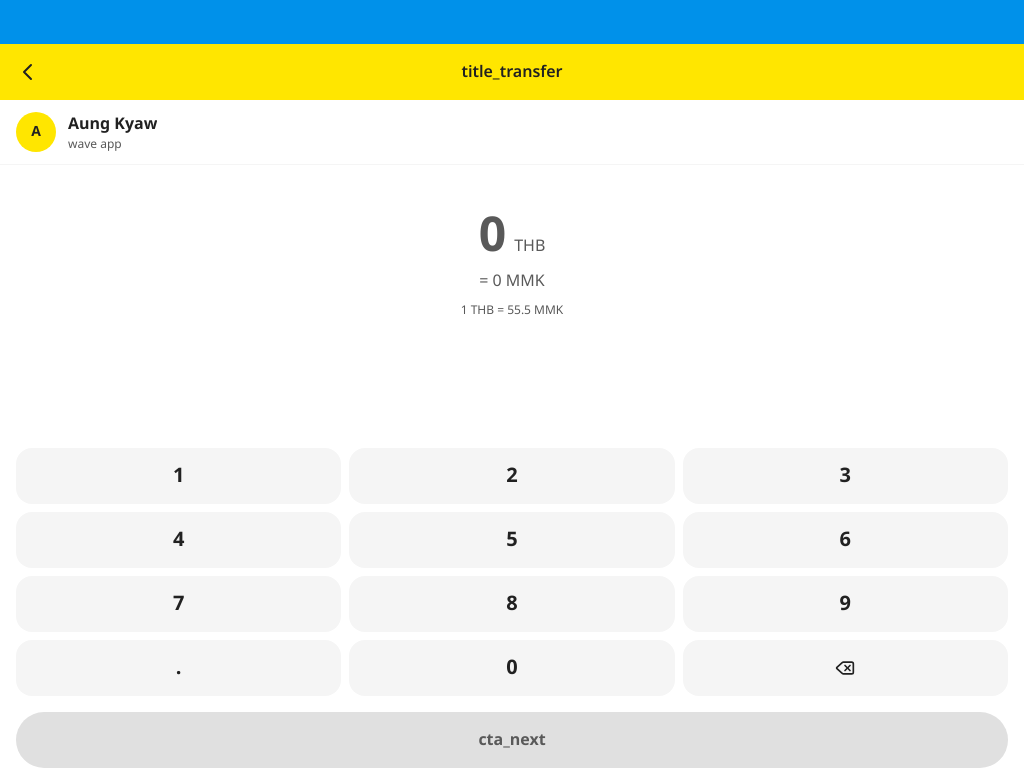
Scenario: AmountPage › enables the Next button when a valid amount is entered
Expected: the button "1" is shown, top-left (16, 448), bottom-right (341, 504)
Click the button "5".
click(512, 540)  # box top-left (349, 512), bottom-right (675, 568)
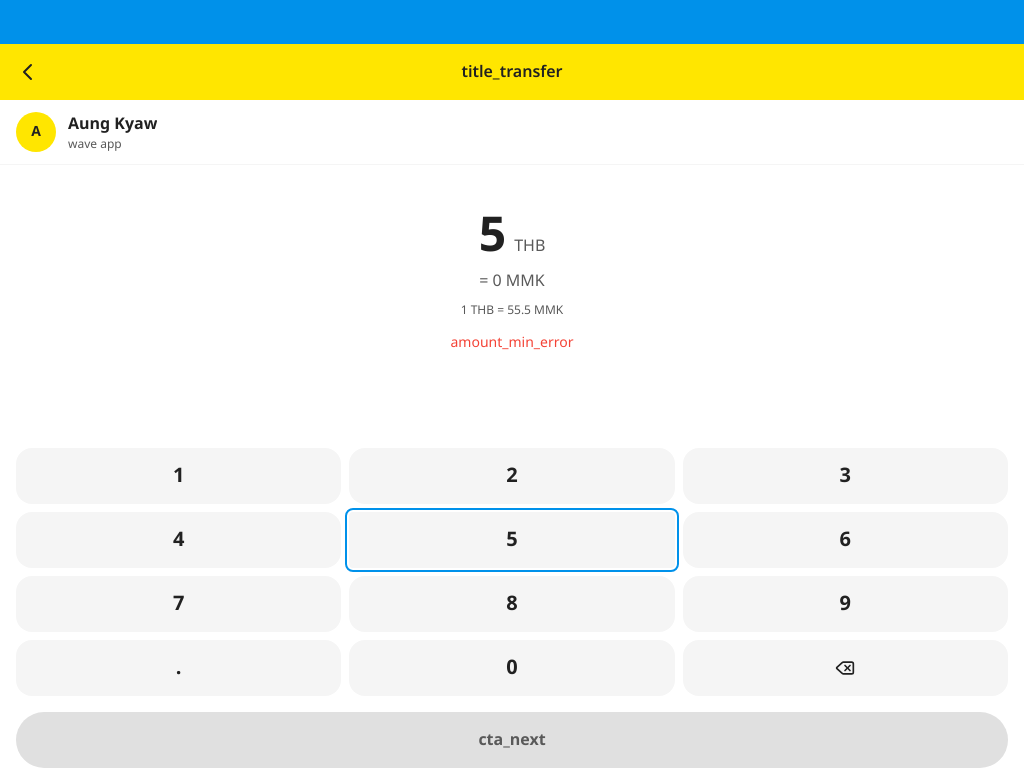
Click the button "0".
click(512, 668)  # box top-left (349, 640), bottom-right (675, 696)
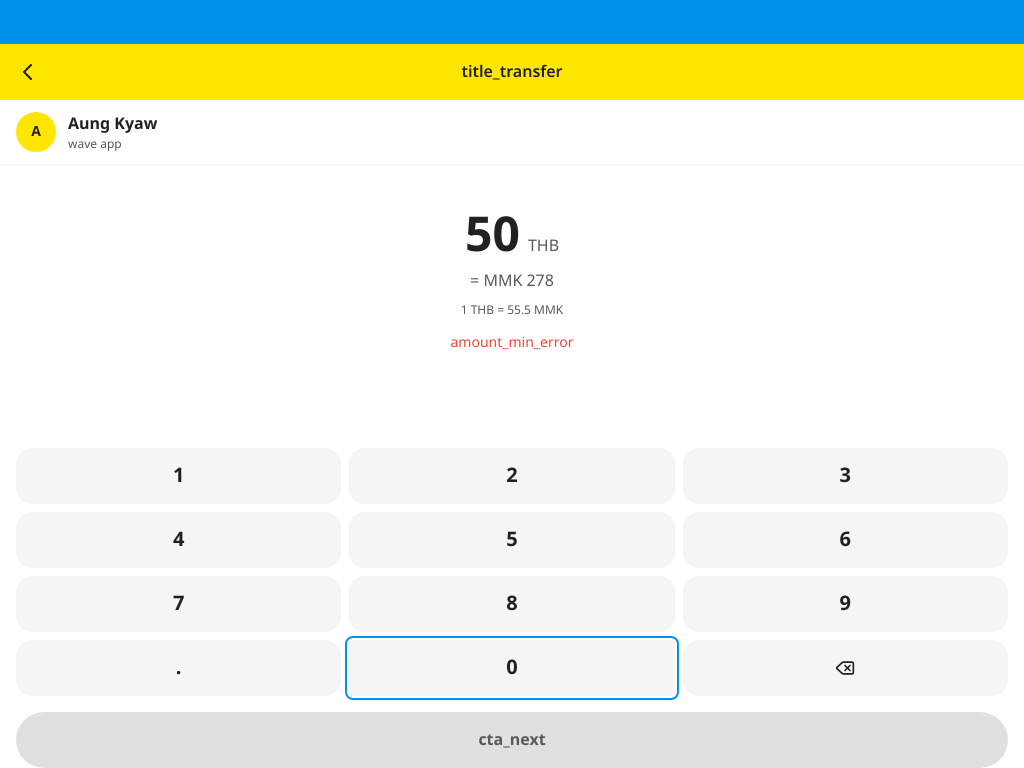
Click the button "0".
click(512, 668)  # box top-left (349, 640), bottom-right (675, 696)
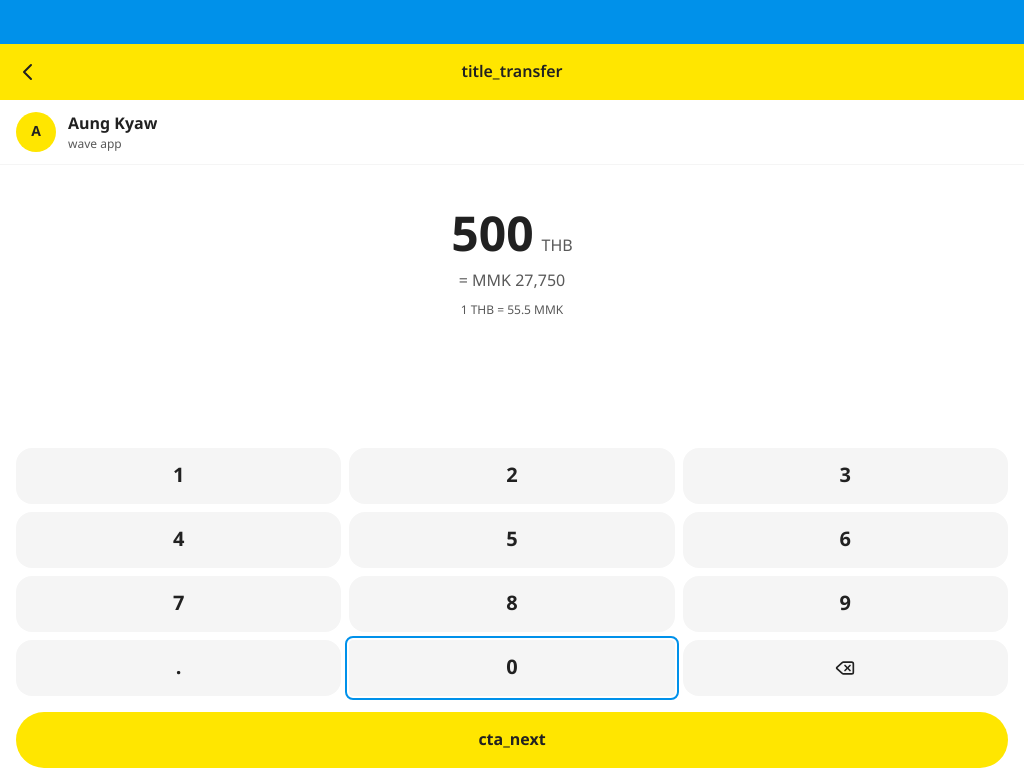
Now the message "amount_min_error" is gone
Now the button "cta_next" is enabled, box top-left (16, 712), bottom-right (1008, 767)
